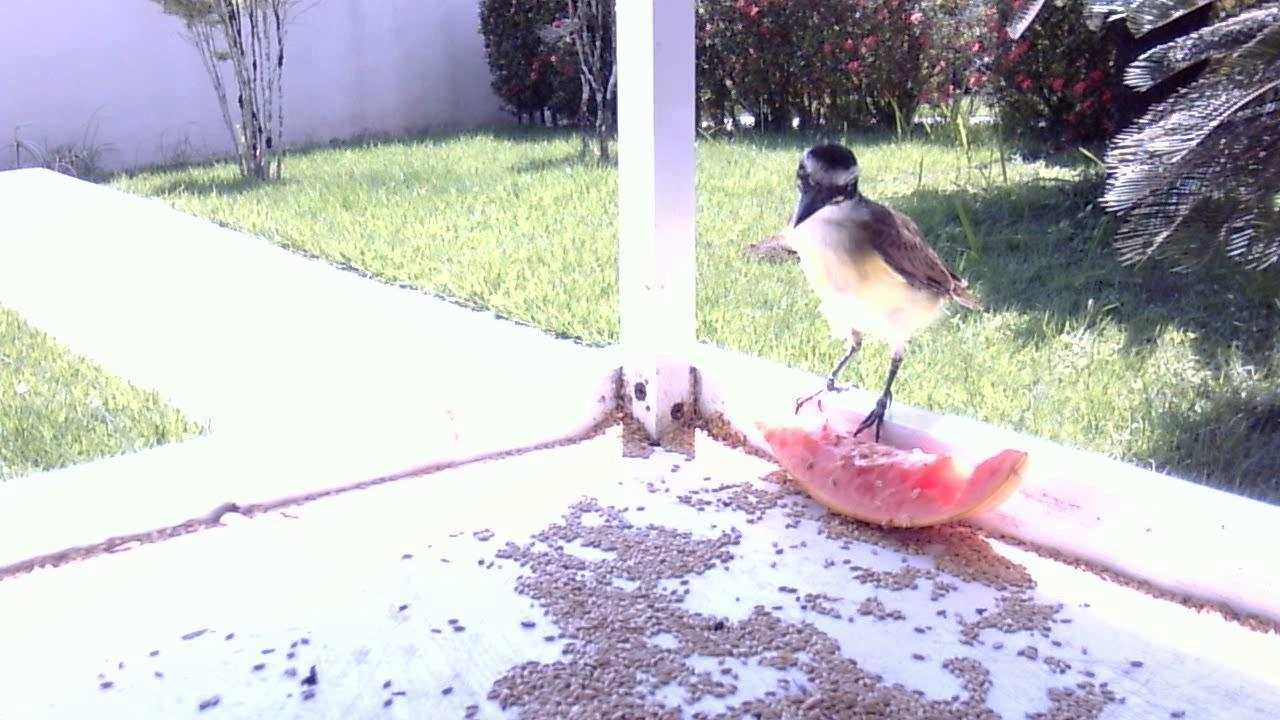bem_te_vi: (745, 137, 980, 460)
